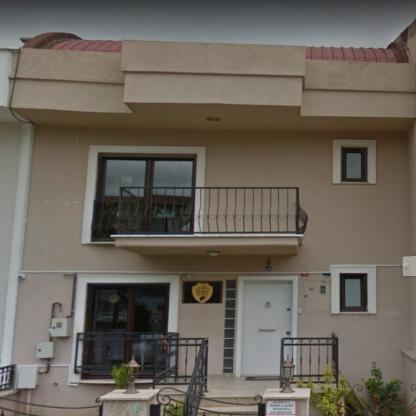door: (236, 276, 298, 376), (147, 154, 194, 234)
window: (83, 284, 168, 378), (92, 152, 147, 241), (337, 273, 367, 312), (342, 147, 364, 181)
